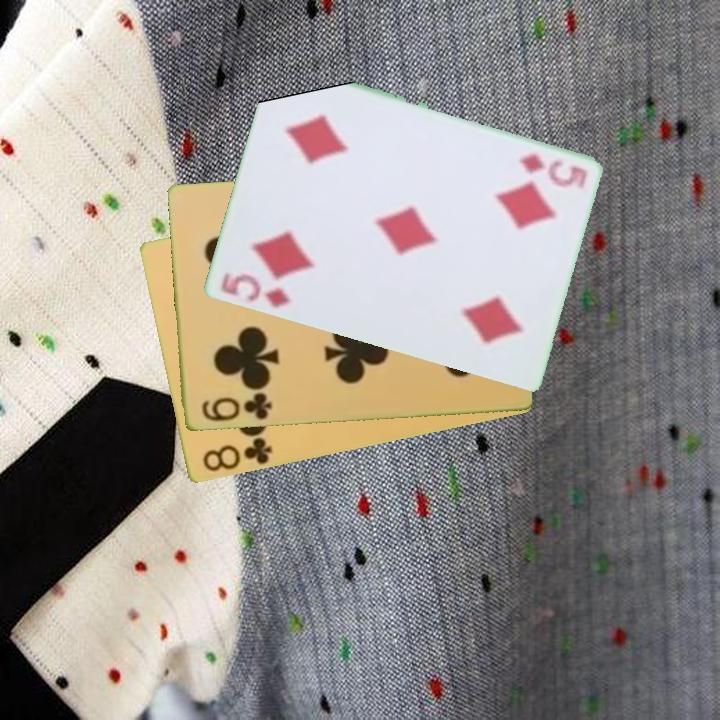5d: (217, 269, 292, 312), (515, 151, 590, 189)
6c: (197, 390, 275, 425)
8c: (198, 431, 275, 475)
